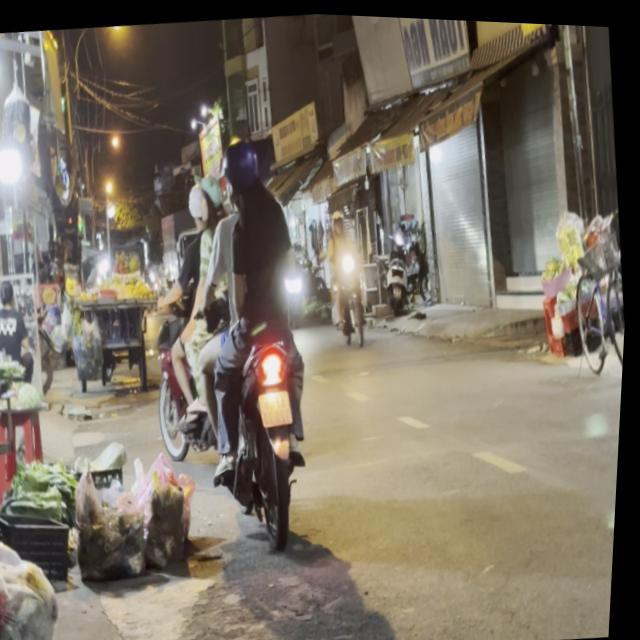helmet: (220, 131, 269, 205), (186, 168, 231, 230), (186, 173, 220, 229)
licenseplate: (174, 119, 341, 549)
nohelmet: (261, 384, 298, 422)
